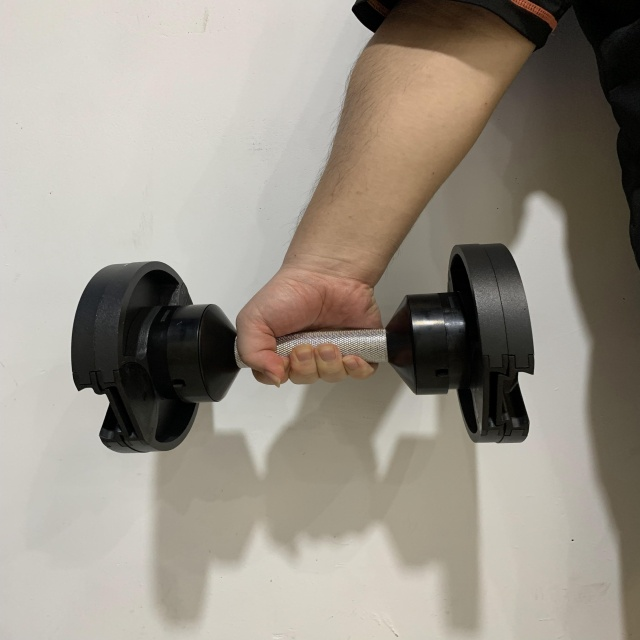03-6kg: (73, 241, 537, 452)
